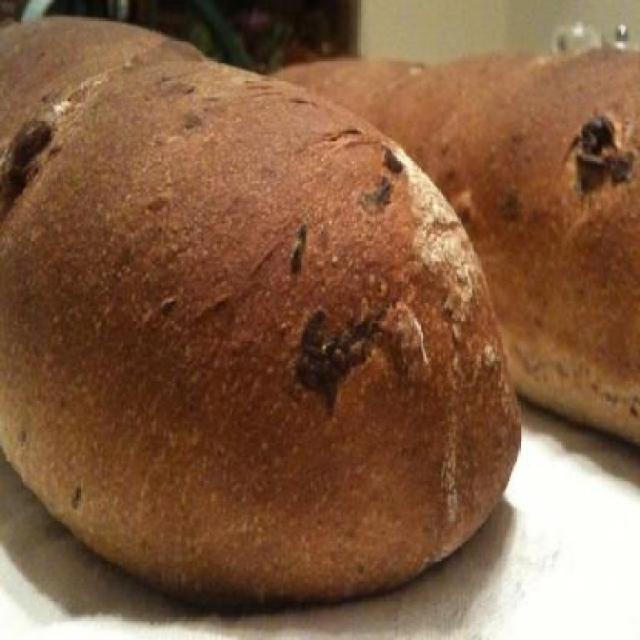Bread: (0, 14, 522, 614), (267, 52, 639, 446)
